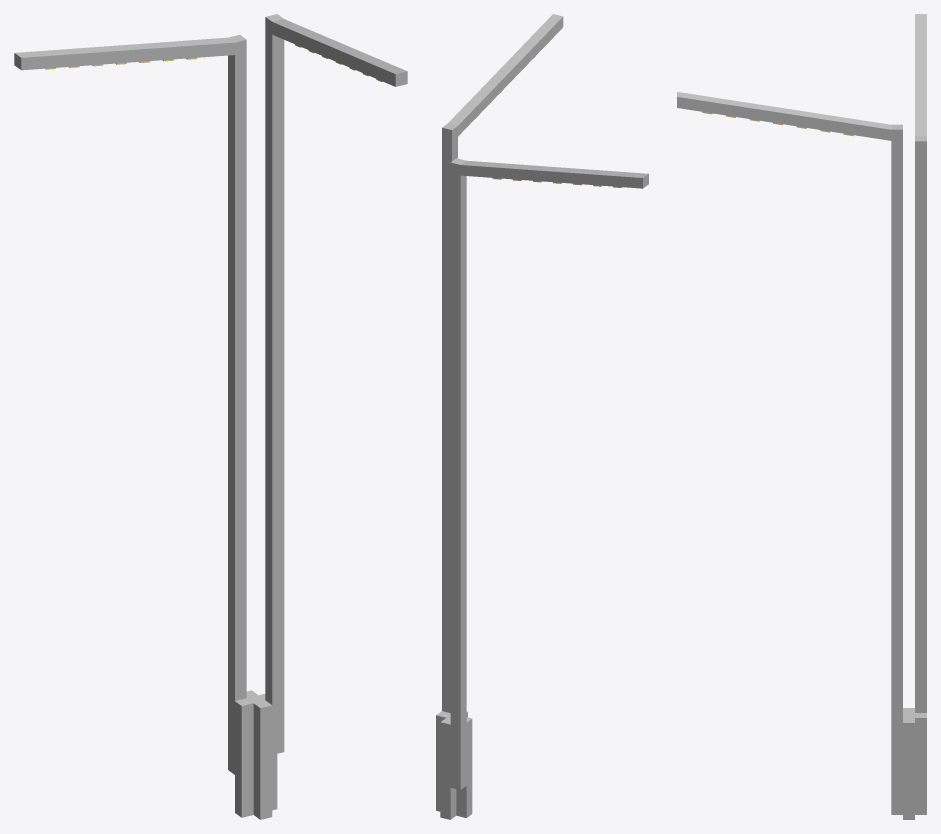
The model's file is streetlight_1.fbx.
3 renders of one model, left to right at view 1: azimuth 30°, elevation 25°; view 2: azimuth 150°, elevation 25°; view 3: azimuth 270°, elevation 25°, orthographic. The views are drawn at different scales.
Parts seen in each view (by area): view 1: STL_S; view 2: STL_S; view 3: STL_S.
Part boxes in pixels (bbox=[...]): STL_S: bbox=[14, 14, 407, 819]; STL_S: bbox=[436, 14, 648, 819]; STL_S: bbox=[677, 14, 926, 819].
Bounding box in the file's own units: 164 × 525 × 164.
